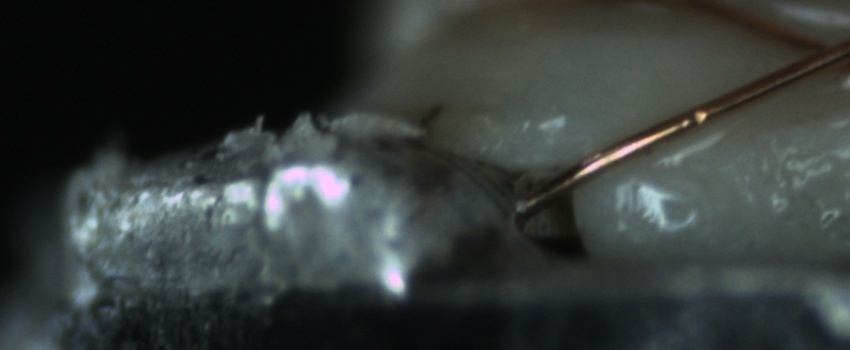CL: (779, 21, 848, 77)
